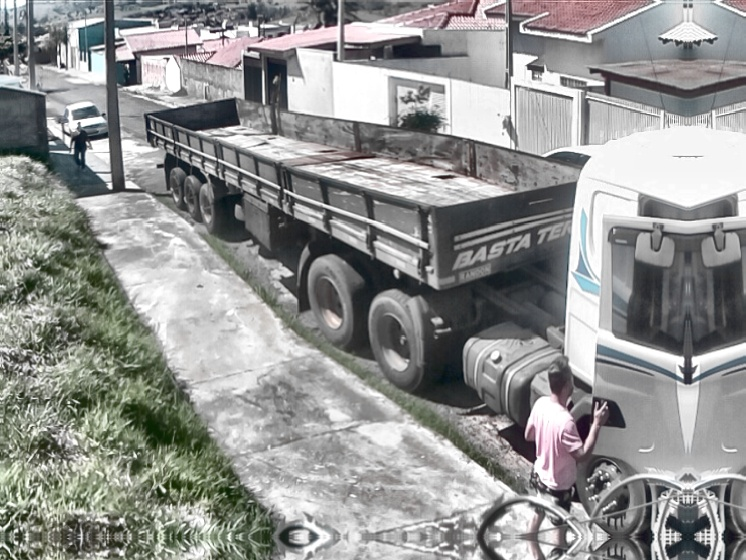person: (522, 353, 613, 560), (67, 121, 93, 173)
